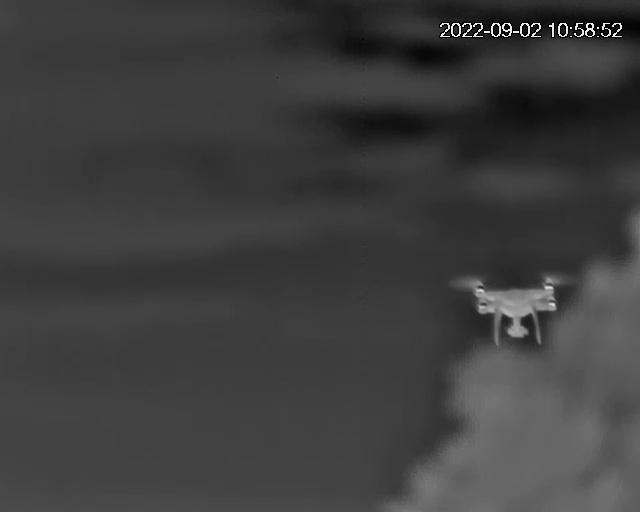DJI-Phantom: (452, 277, 573, 346)
